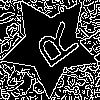R: (25, 20, 82, 76)
